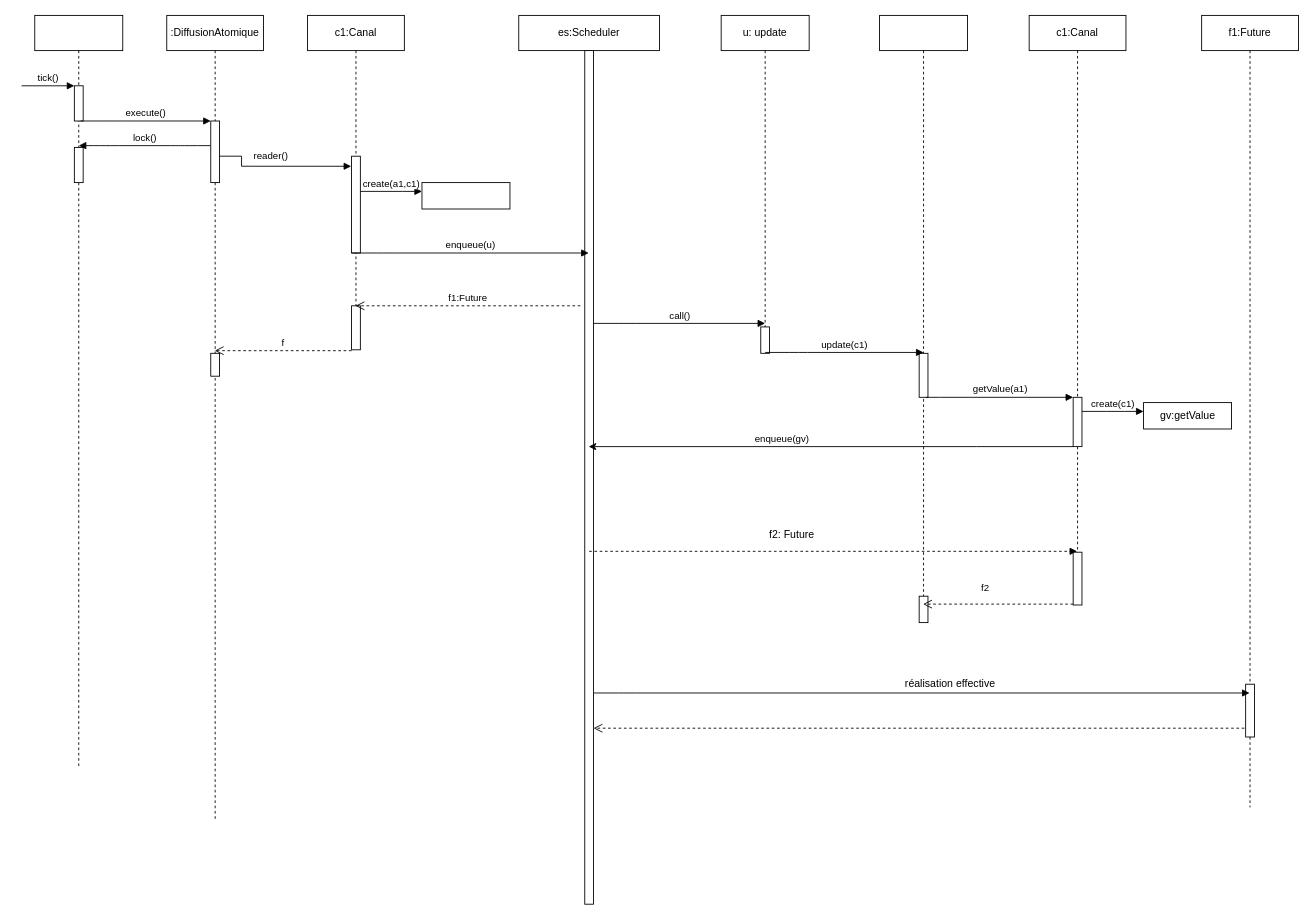
This 1314x920 diagram has some shape labels left out. The shapes that lost their labels are listed below. From the top down, each one's box as (x1, y1, x2, y2) in pixels, then its label:
(421, 182, 510, 209): u:update
(879, 15, 968, 605): a1:Afficheur
(34, 15, 123, 769): :CapteurImpl
